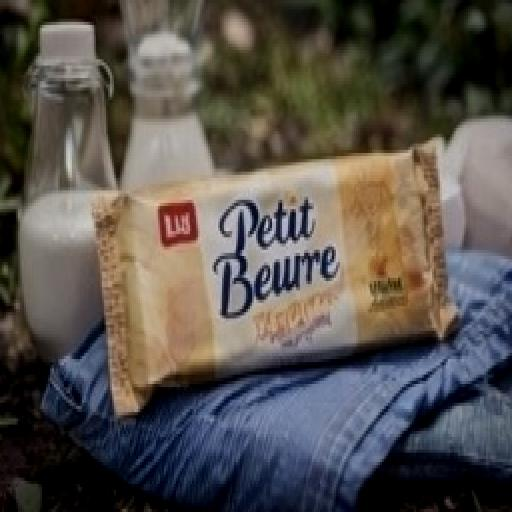petit_beurre: (56, 120, 484, 423)
